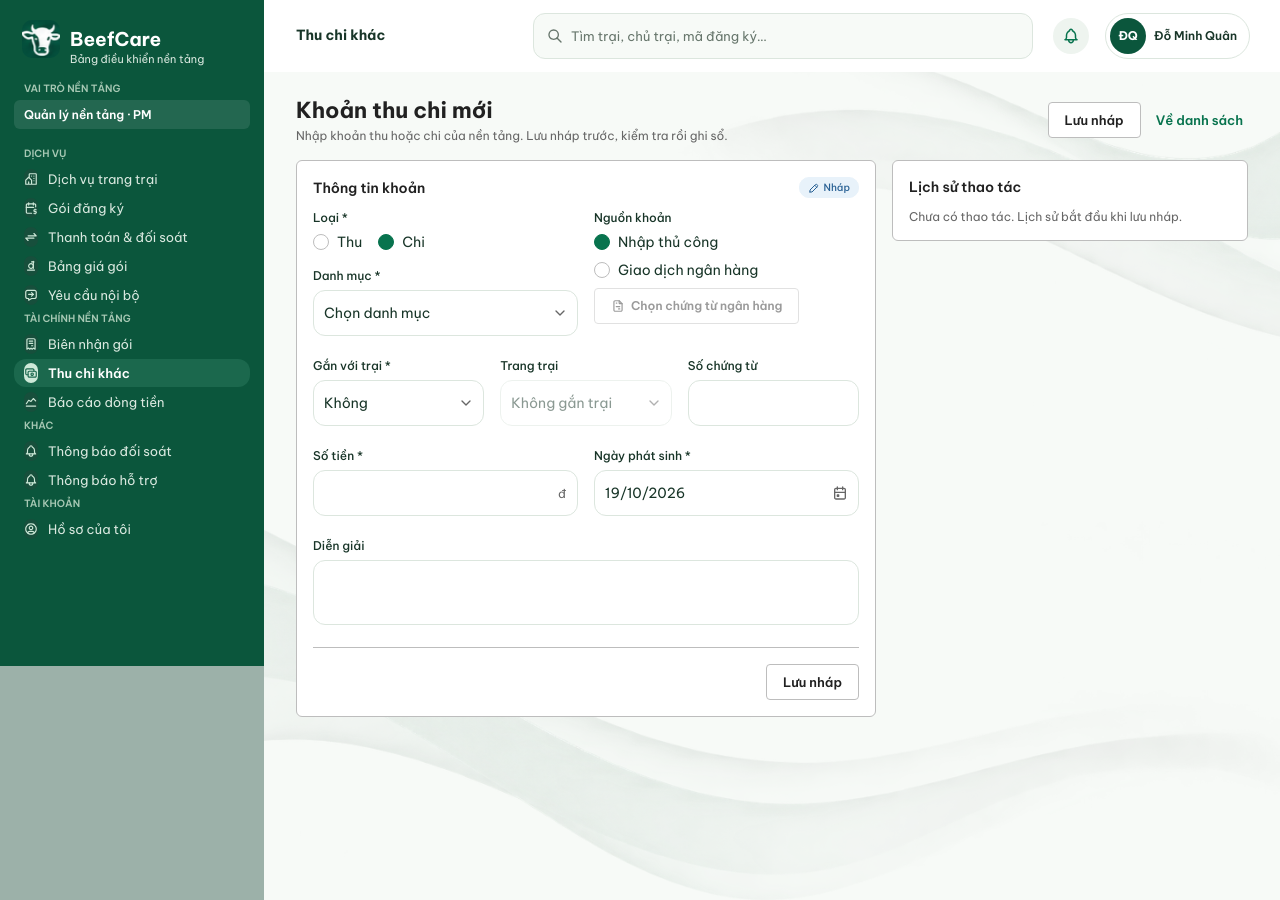
it: SCR-72 form khoản: nguồn ngân hàng › khoản Thu chỉ chọn được giao dịch tiền vào
Step 1. Click the radio button labelled "Thu" → [338, 242], box [313, 232, 362, 252]
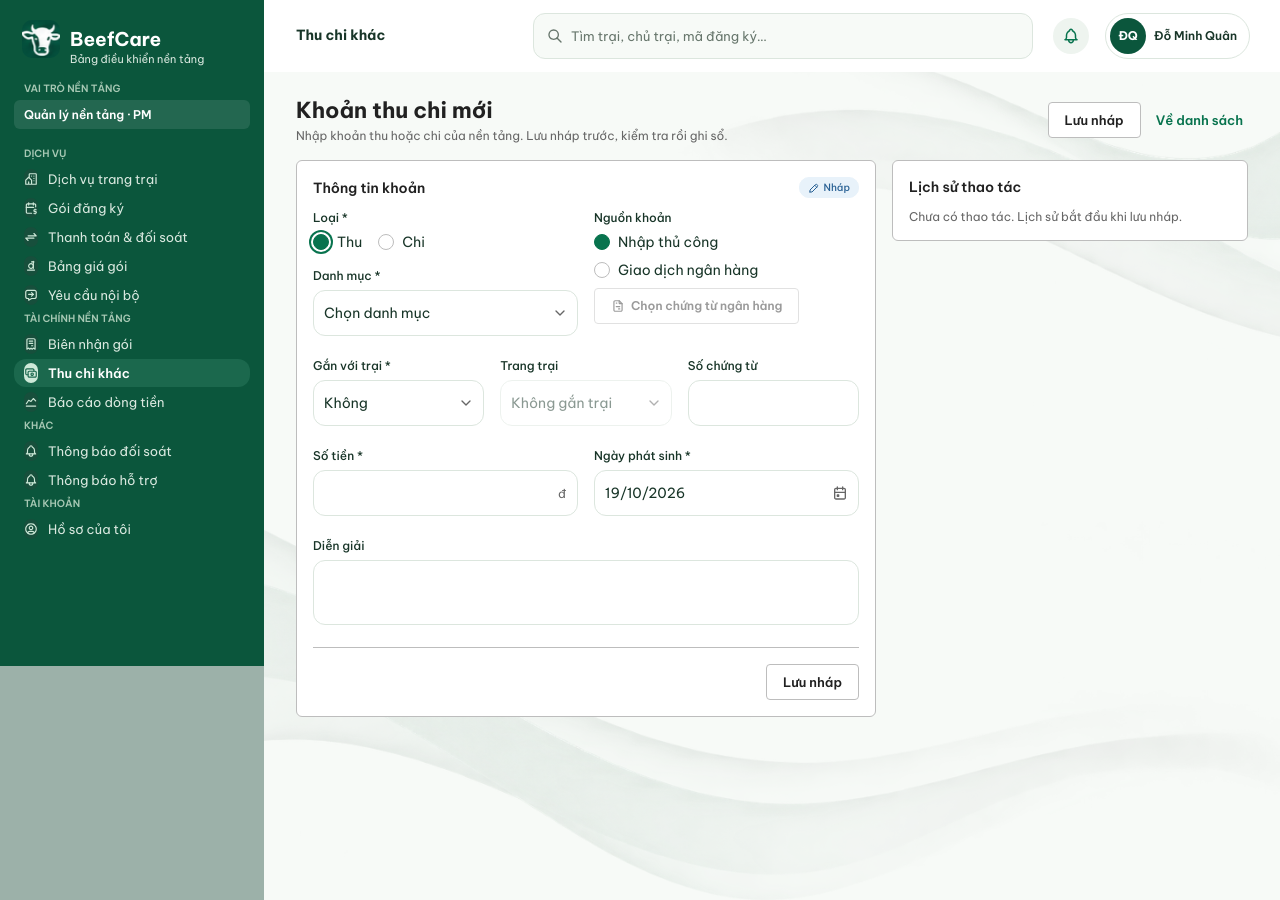
Step 2. Click the radio button labelled "Giao dịch ngân hàng" → [676, 270], box [594, 260, 758, 280]
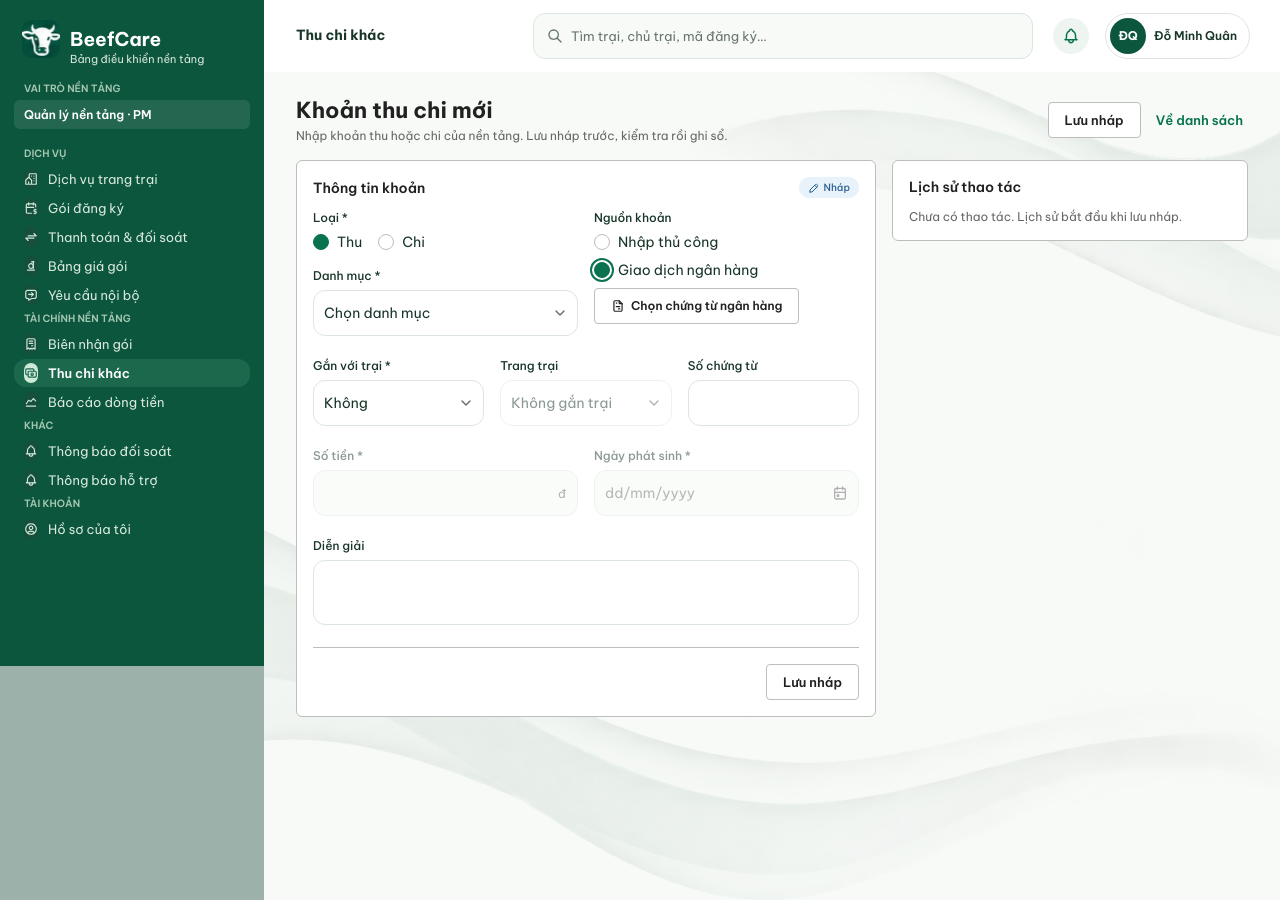
Step 3. Click the button "Chọn chứng từ ngân hàng" → [697, 306], box [594, 288, 799, 324]
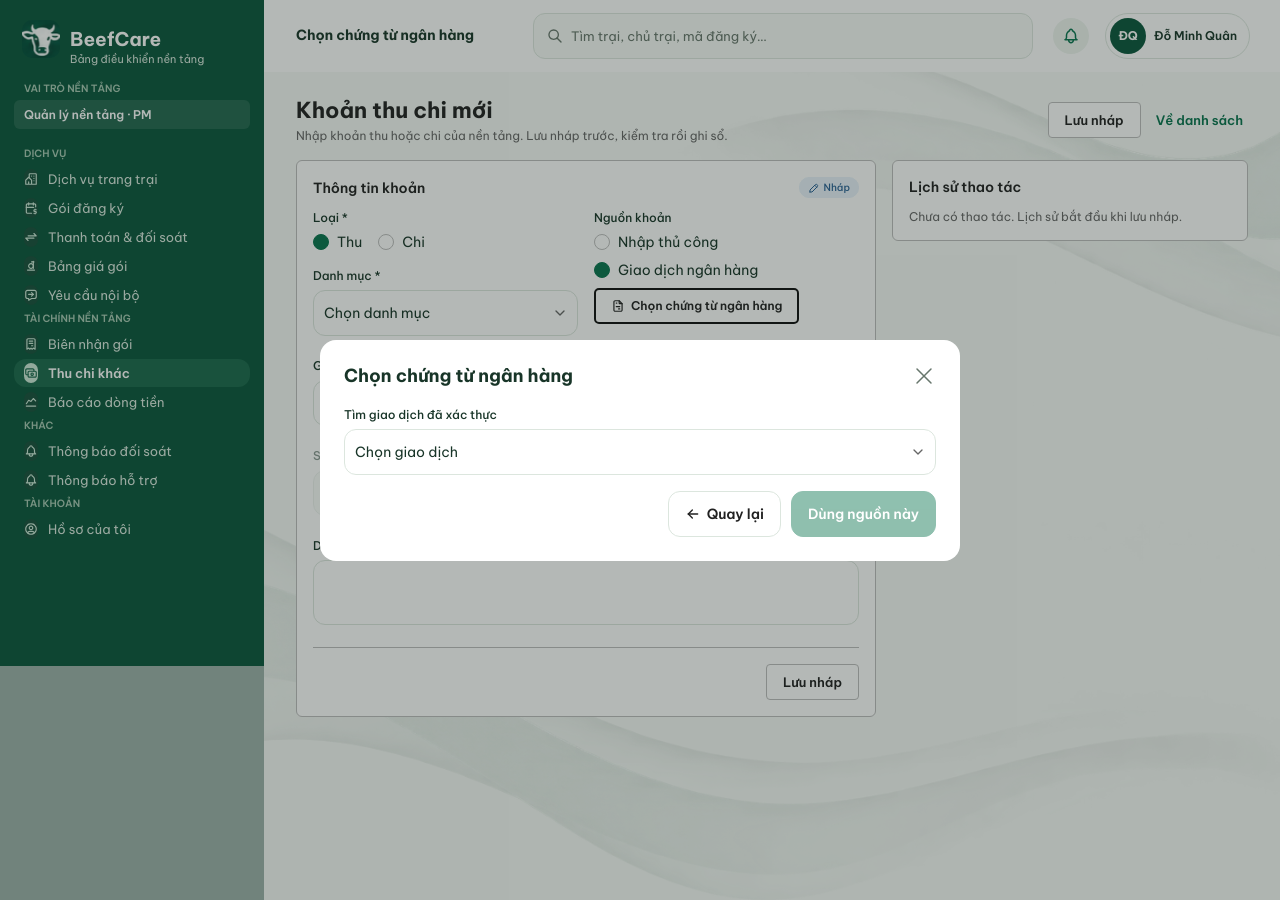
Check: the dropdown labelled "Tìm giao dịch đã xác thực" is shown, box [344, 428, 936, 474]
